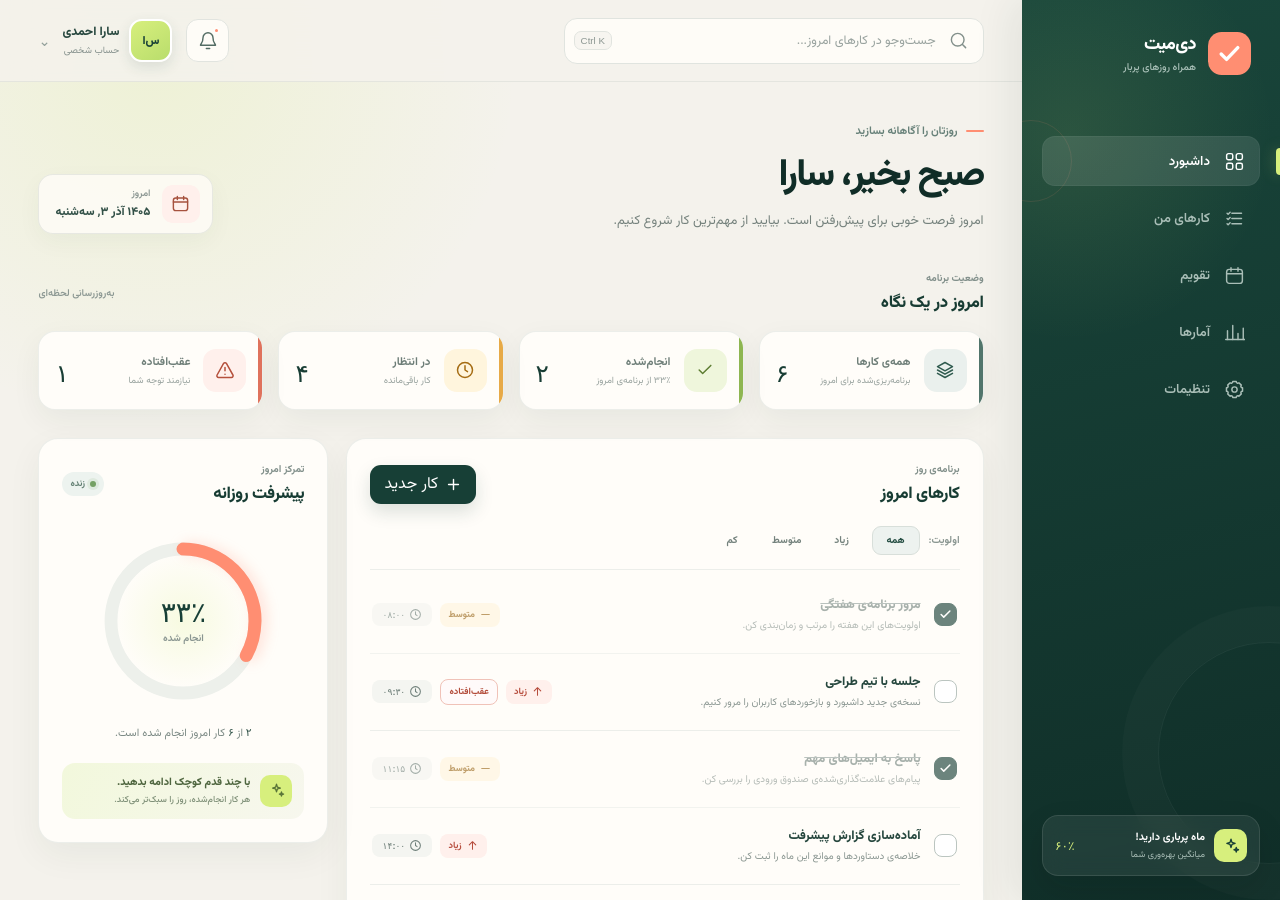
task management dashboard › adds a new task through the local modal form
The image size is (1280, 900).
Click the button "کار جدید".
click(423, 484)  # box [370,465,476,504]
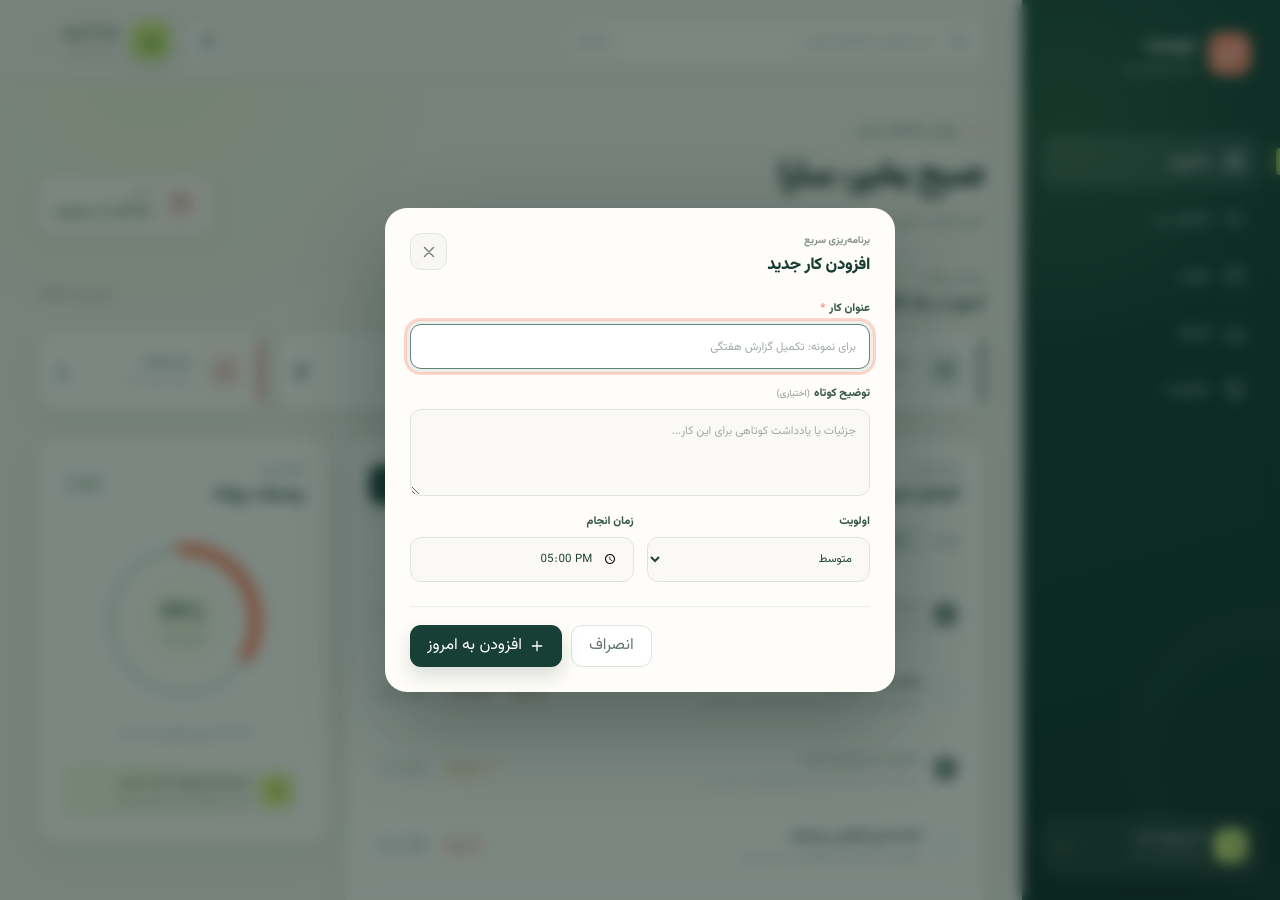
Type "برنامه‌ریزی فردا" into the field labelled "عنوان کار *".
click(640, 347); type("برنامه‌ریزی فردا")  # box [410,324,870,369]
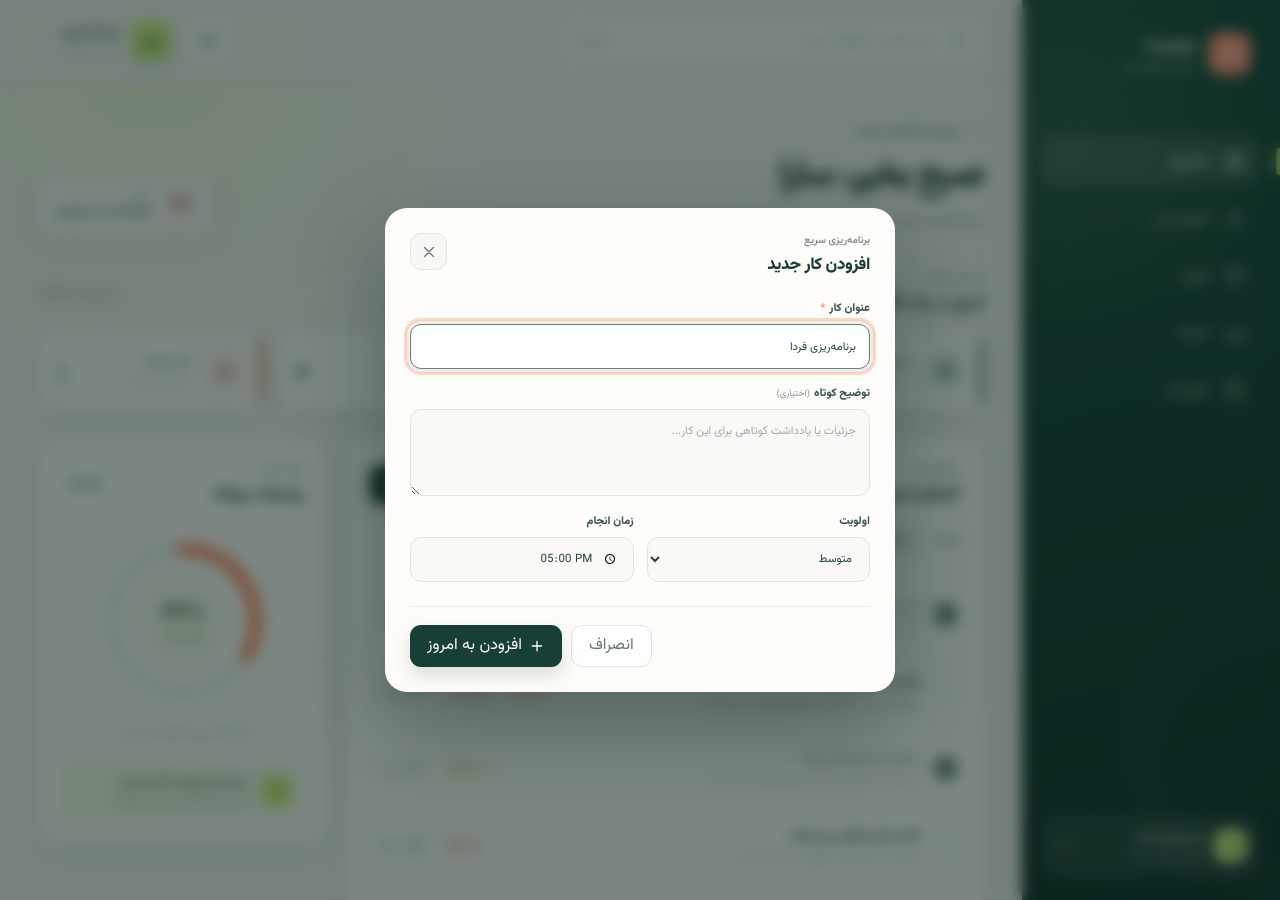
Type "سه اولویت اصلی را مشخص کن." into the text box labelled "توضیح کوتاه (اختیاری)".
click(640, 452); type("سه اولویت اصلی را مشخص کن.")  # box [410,409,870,496]
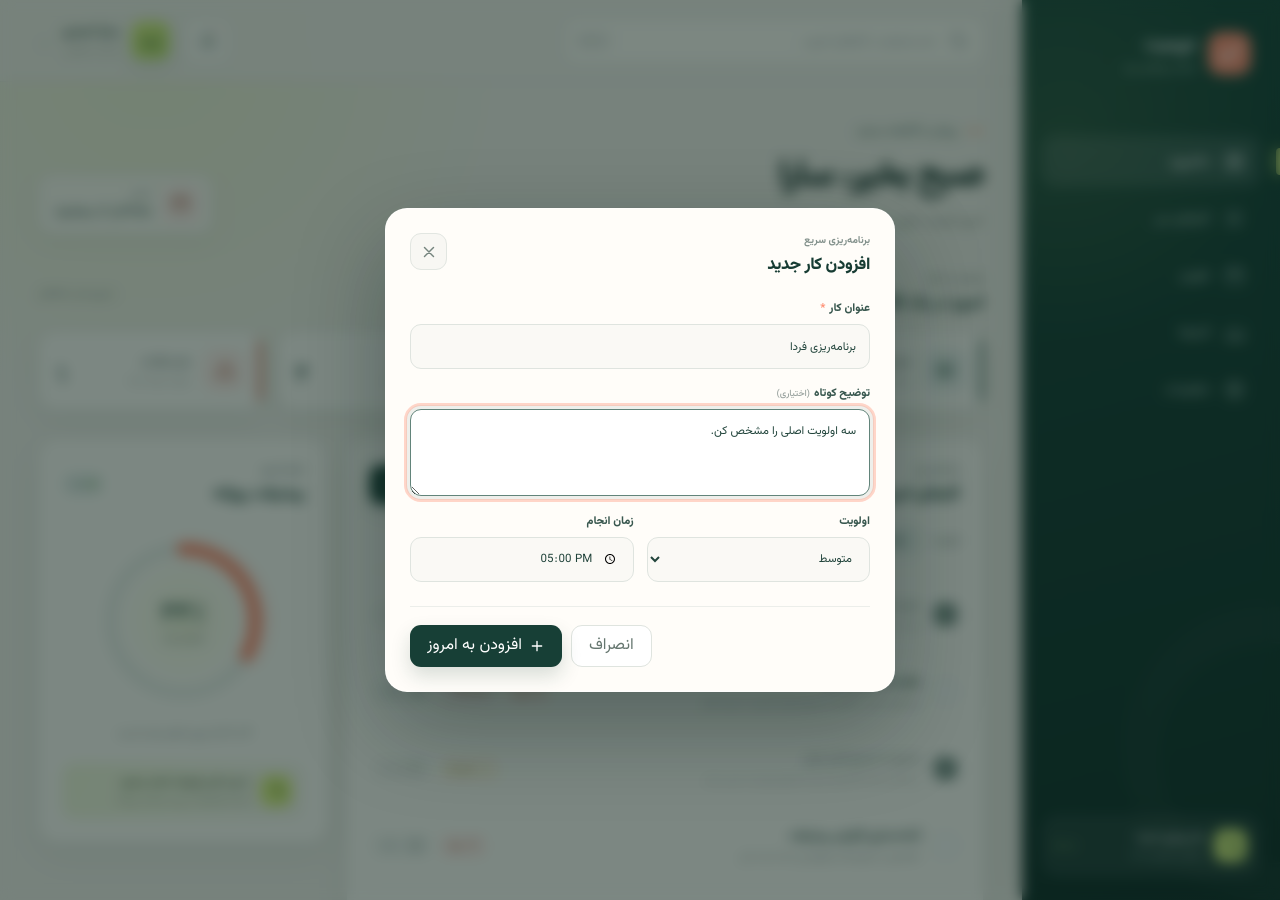
Select "زیاد" in the dropdown labelled "اولویت" at point(758, 559), box [646,537,870,582]
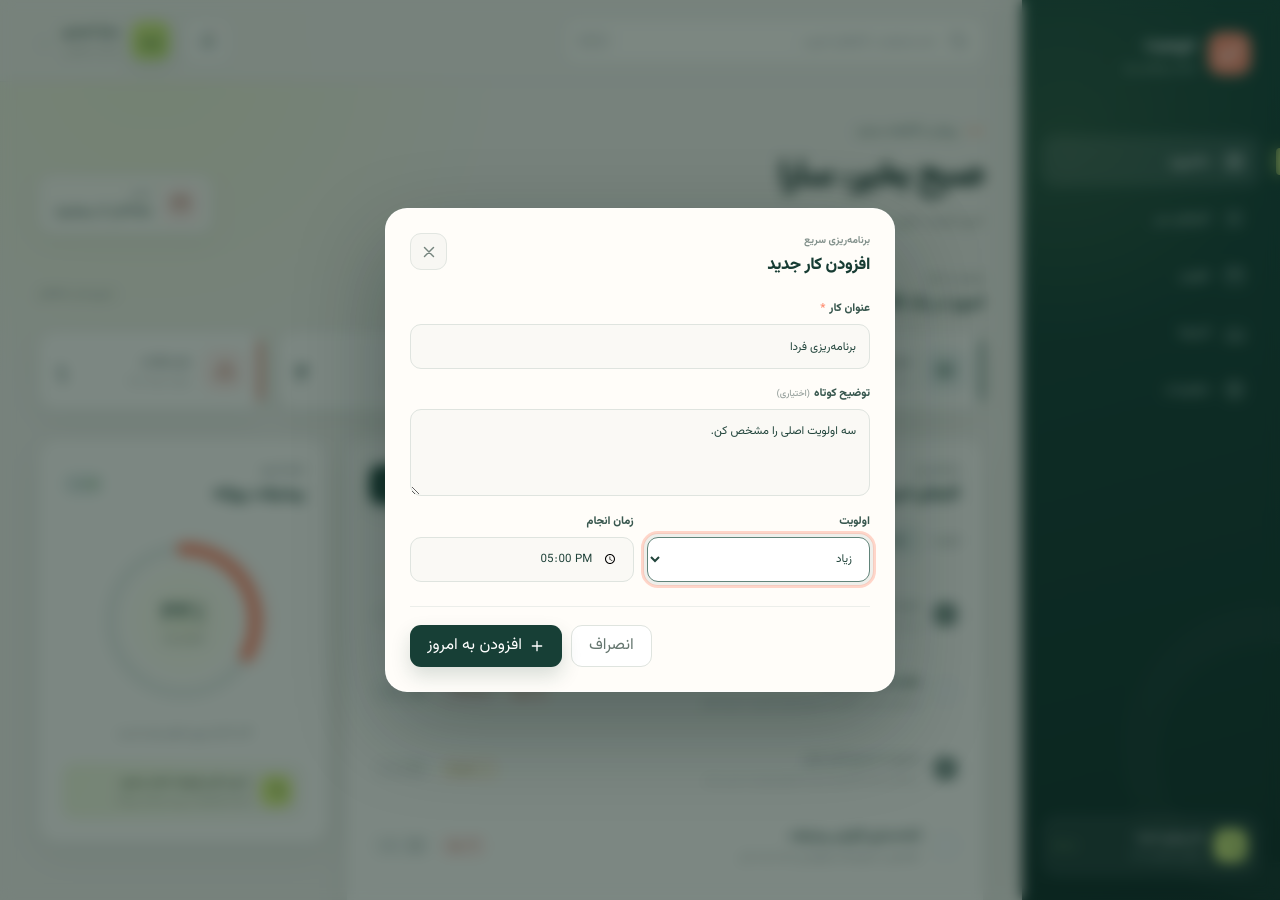
Click the button "افزودن به امروز".
click(486, 646)  # box [410,625,562,667]
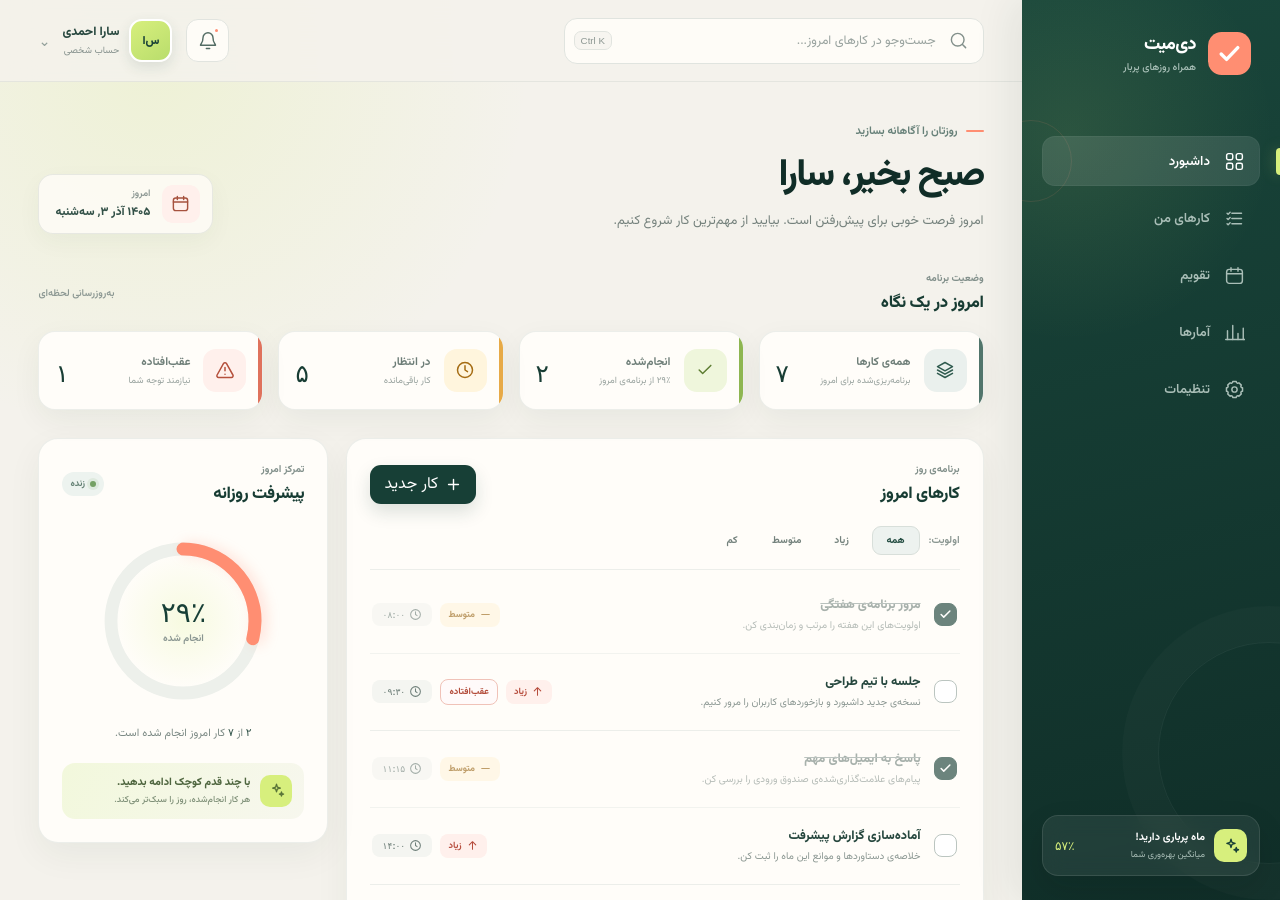
Expected: the dialog is gone
Expected: the element named "پیشرفت روزانه 29 درصد" is shown, [93,531,273,711]
